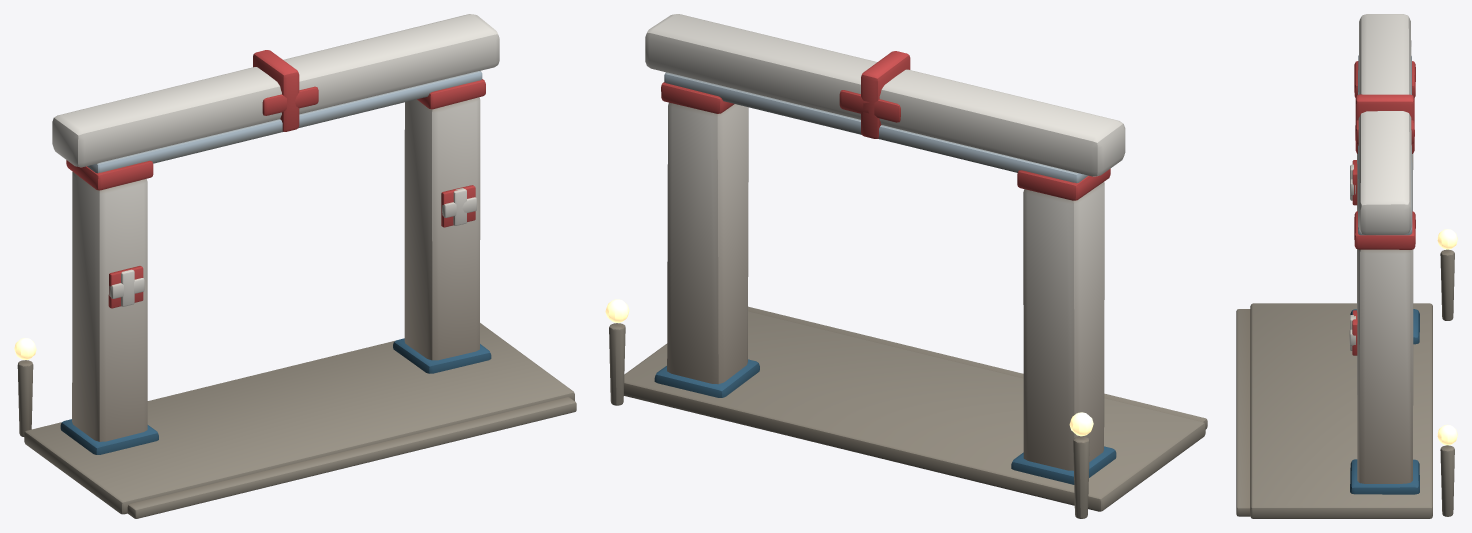
The picture shows the model from 3 angles, left to right: view 1: azimuth 30°, elevation 25°; view 2: azimuth 150°, elevation 25°; view 3: azimuth 270°, elevation 25°; orthographic projection. The views are drawn at different scales.
Parts seen in each view (by area): view 1: gate_e949a255; view 2: gate_e949a255; view 3: gate_e949a255.
Boxes of the visible parts, x1,y1,x2,y2 form: gate_e949a255: [14, 14, 576, 518]; gate_e949a255: [605, 14, 1207, 518]; gate_e949a255: [1236, 14, 1457, 518].
Size of the model in its own units: 5.59 by 4.07 by 2.54.
